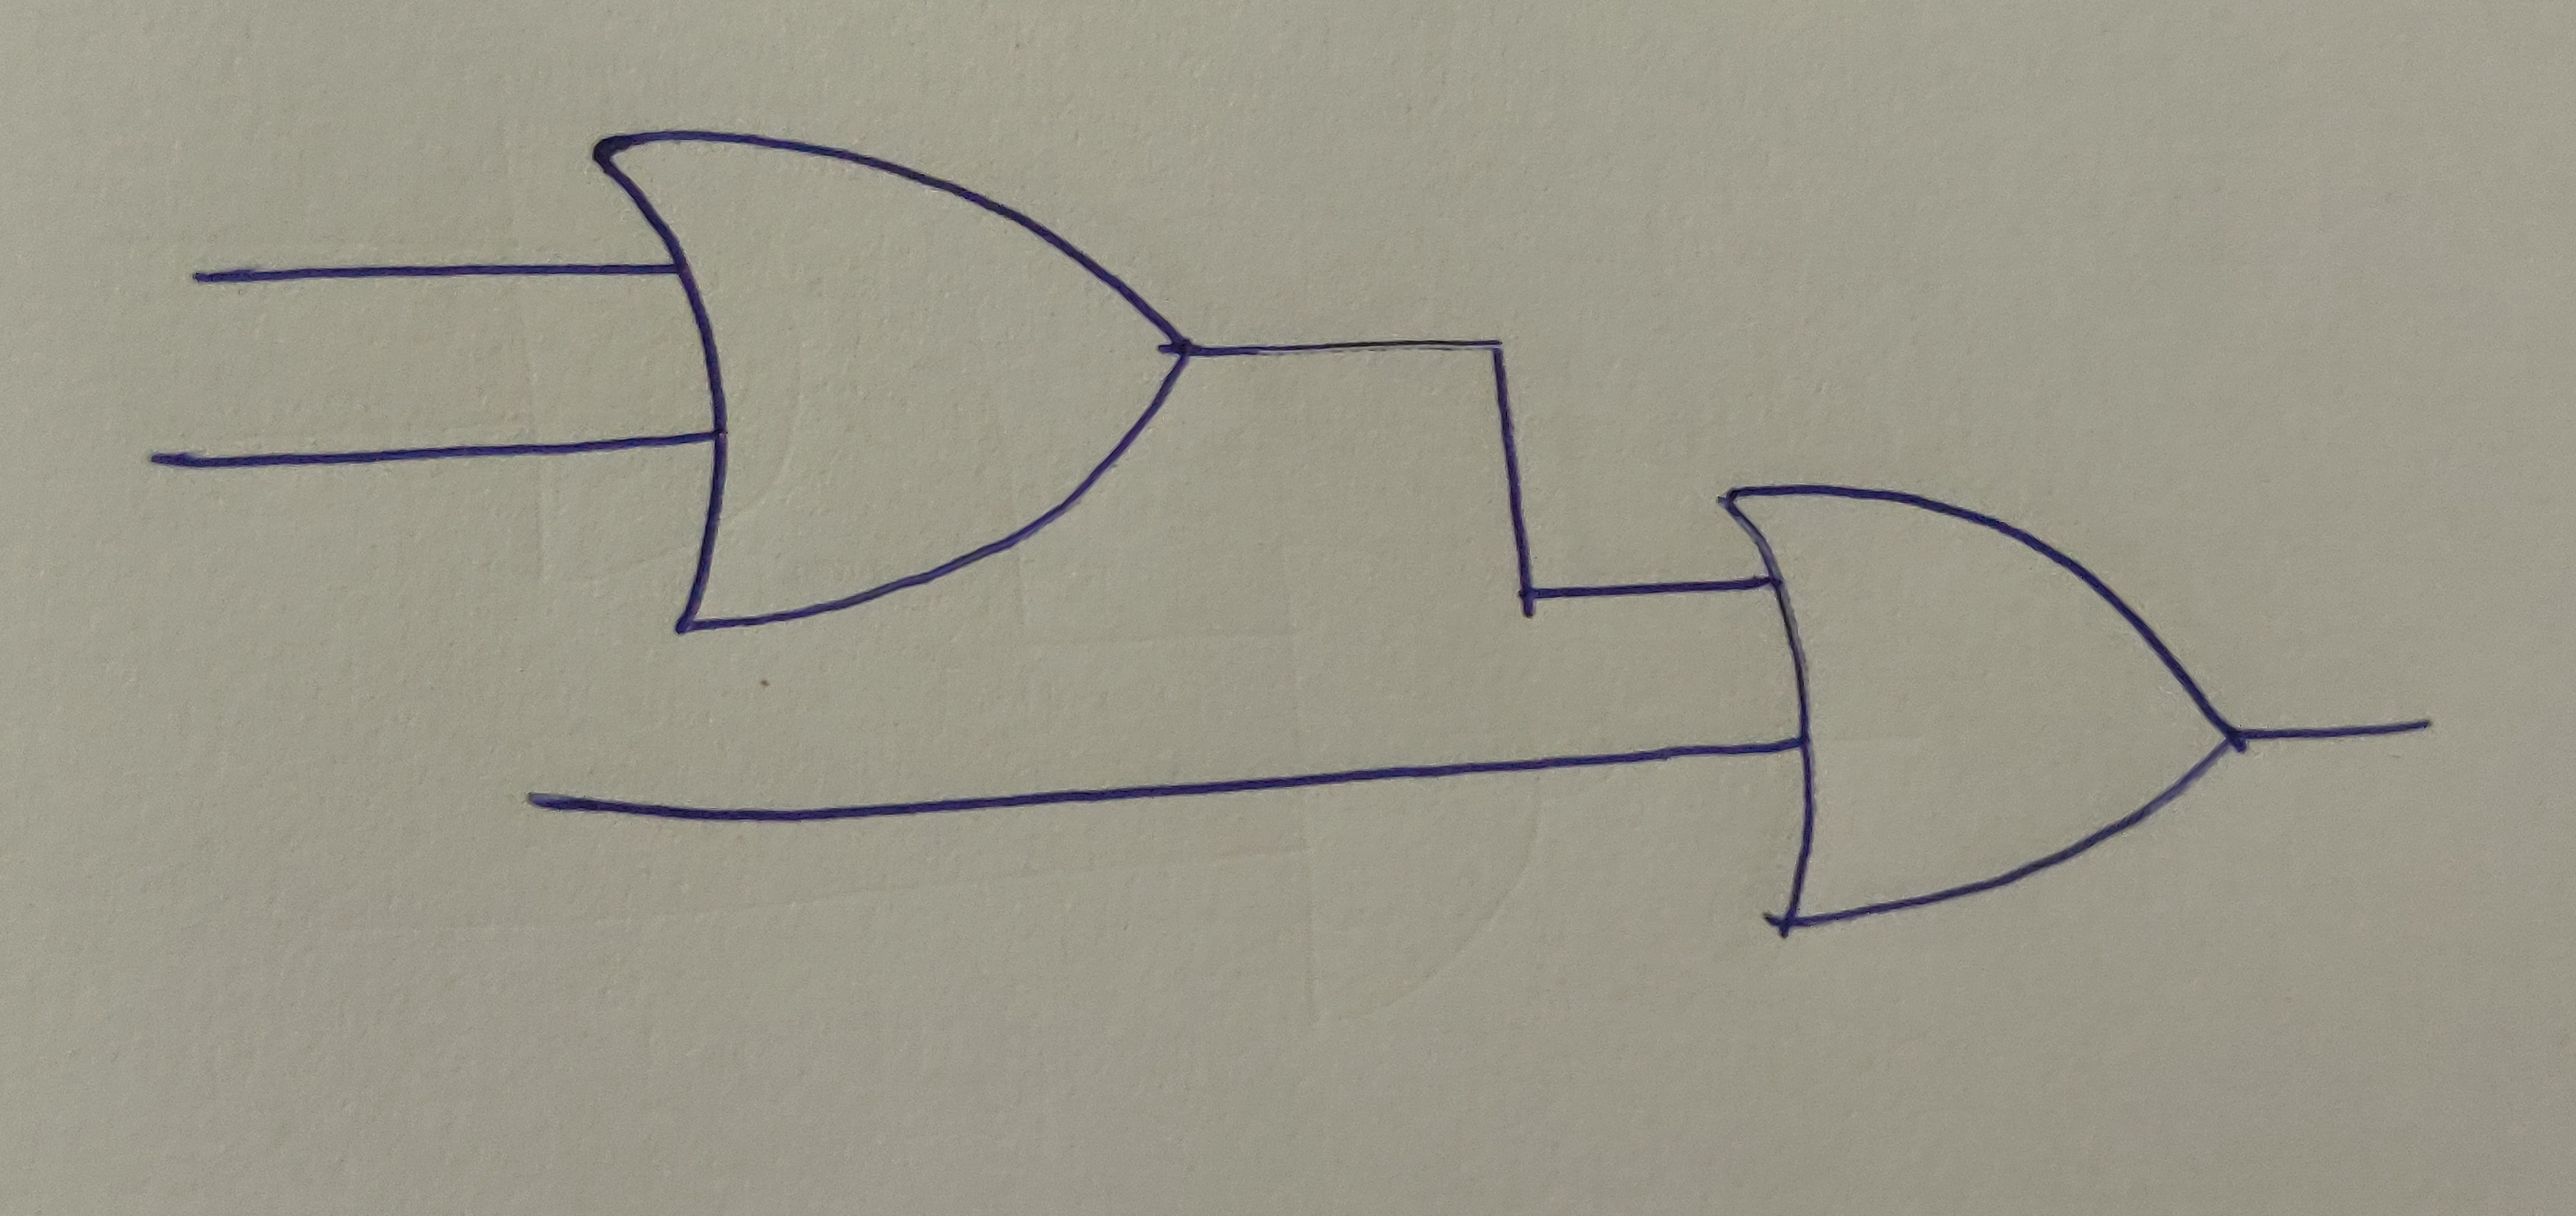or: (578, 128, 1193, 638), (1718, 485, 2239, 930)
